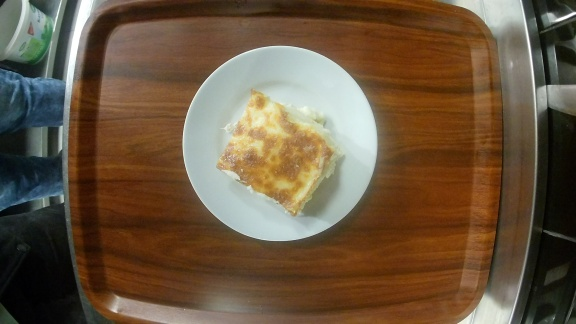firinmakarna: (180, 44, 380, 243)
